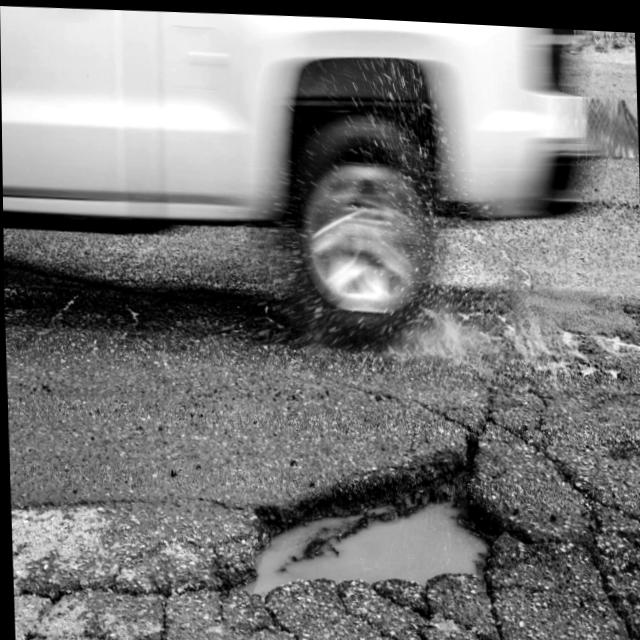pathole: (225, 423, 613, 640), (436, 298, 640, 423)
